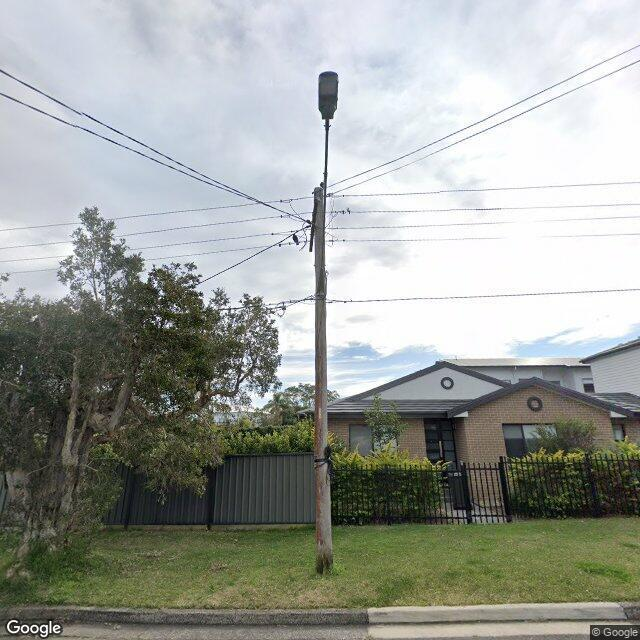crossarm: (270, 188, 350, 250)
streetlight: (315, 70, 339, 298)
timber-pole: (314, 182, 336, 579)
